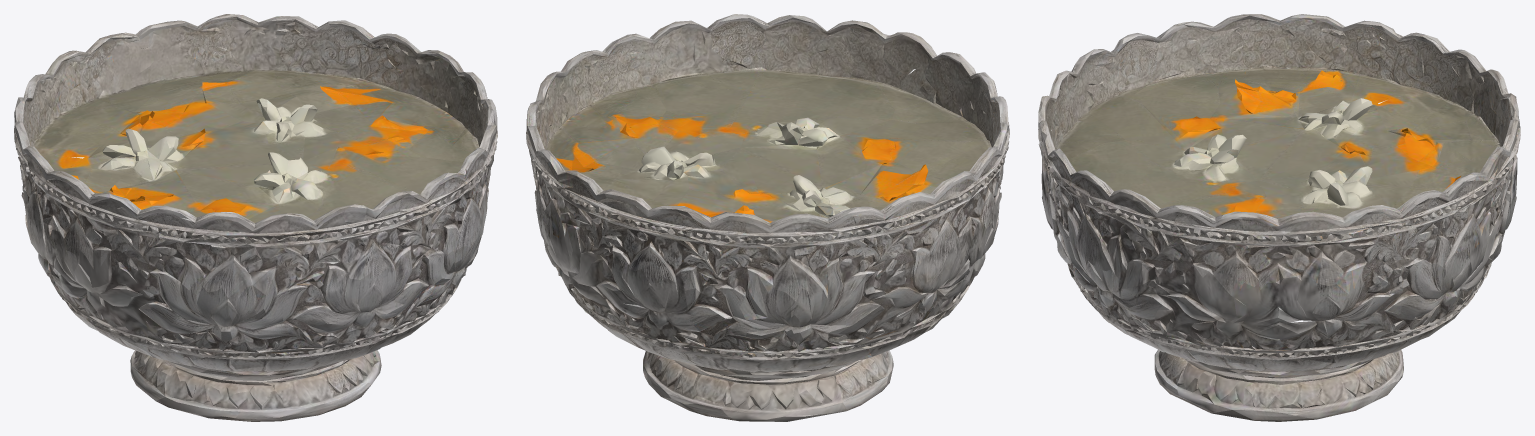
The model's file is w4bigbowl.glb.
3 renders of one model, left to right at view 1: azimuth 30°, elevation 25°; view 2: azimuth 150°, elevation 25°; view 3: azimuth 270°, elevation 25°, orthographic.
Parts seen in each view (by area): view 1: output_unwrapped; view 2: output_unwrapped; view 3: output_unwrapped.
Part boxes in pixels (x1,y1,x2,y2): output_unwrapped: [14, 14, 497, 421]; output_unwrapped: [526, 14, 1009, 421]; output_unwrapped: [1038, 14, 1520, 421].
Bounding box in the file's own units: 0.32 × 0.1877 × 0.3187.
1 material, 1 textured.
